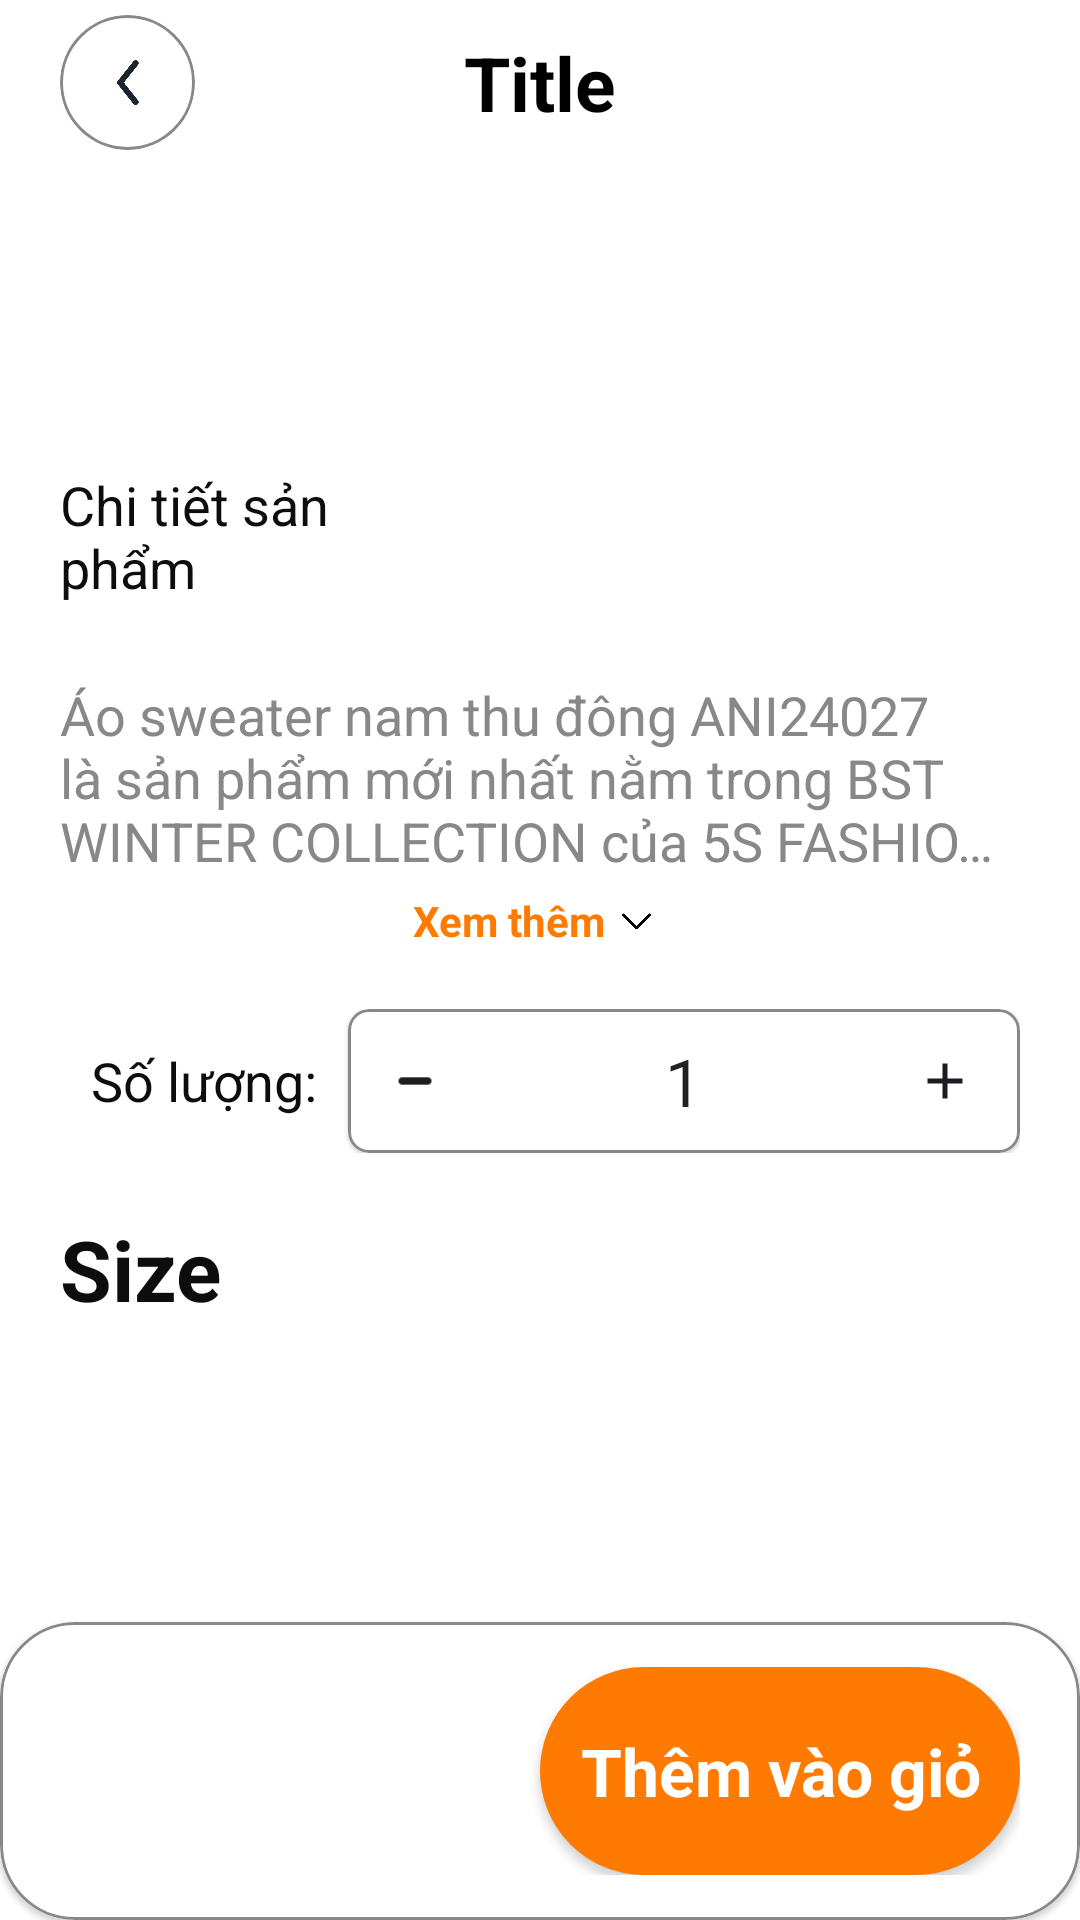

Named icons in this screenshot (1080w x 1920h) and their centers, (x=x, y=y):
add: (x=952, y=1081)
angle down: (x=636, y=921)
angle left: (x=127, y=82)
minus: (x=415, y=1081)
